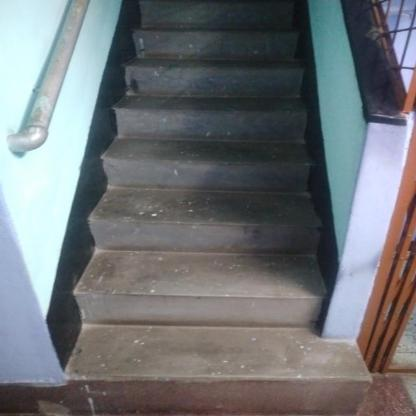stair: (60, 0, 351, 401)
